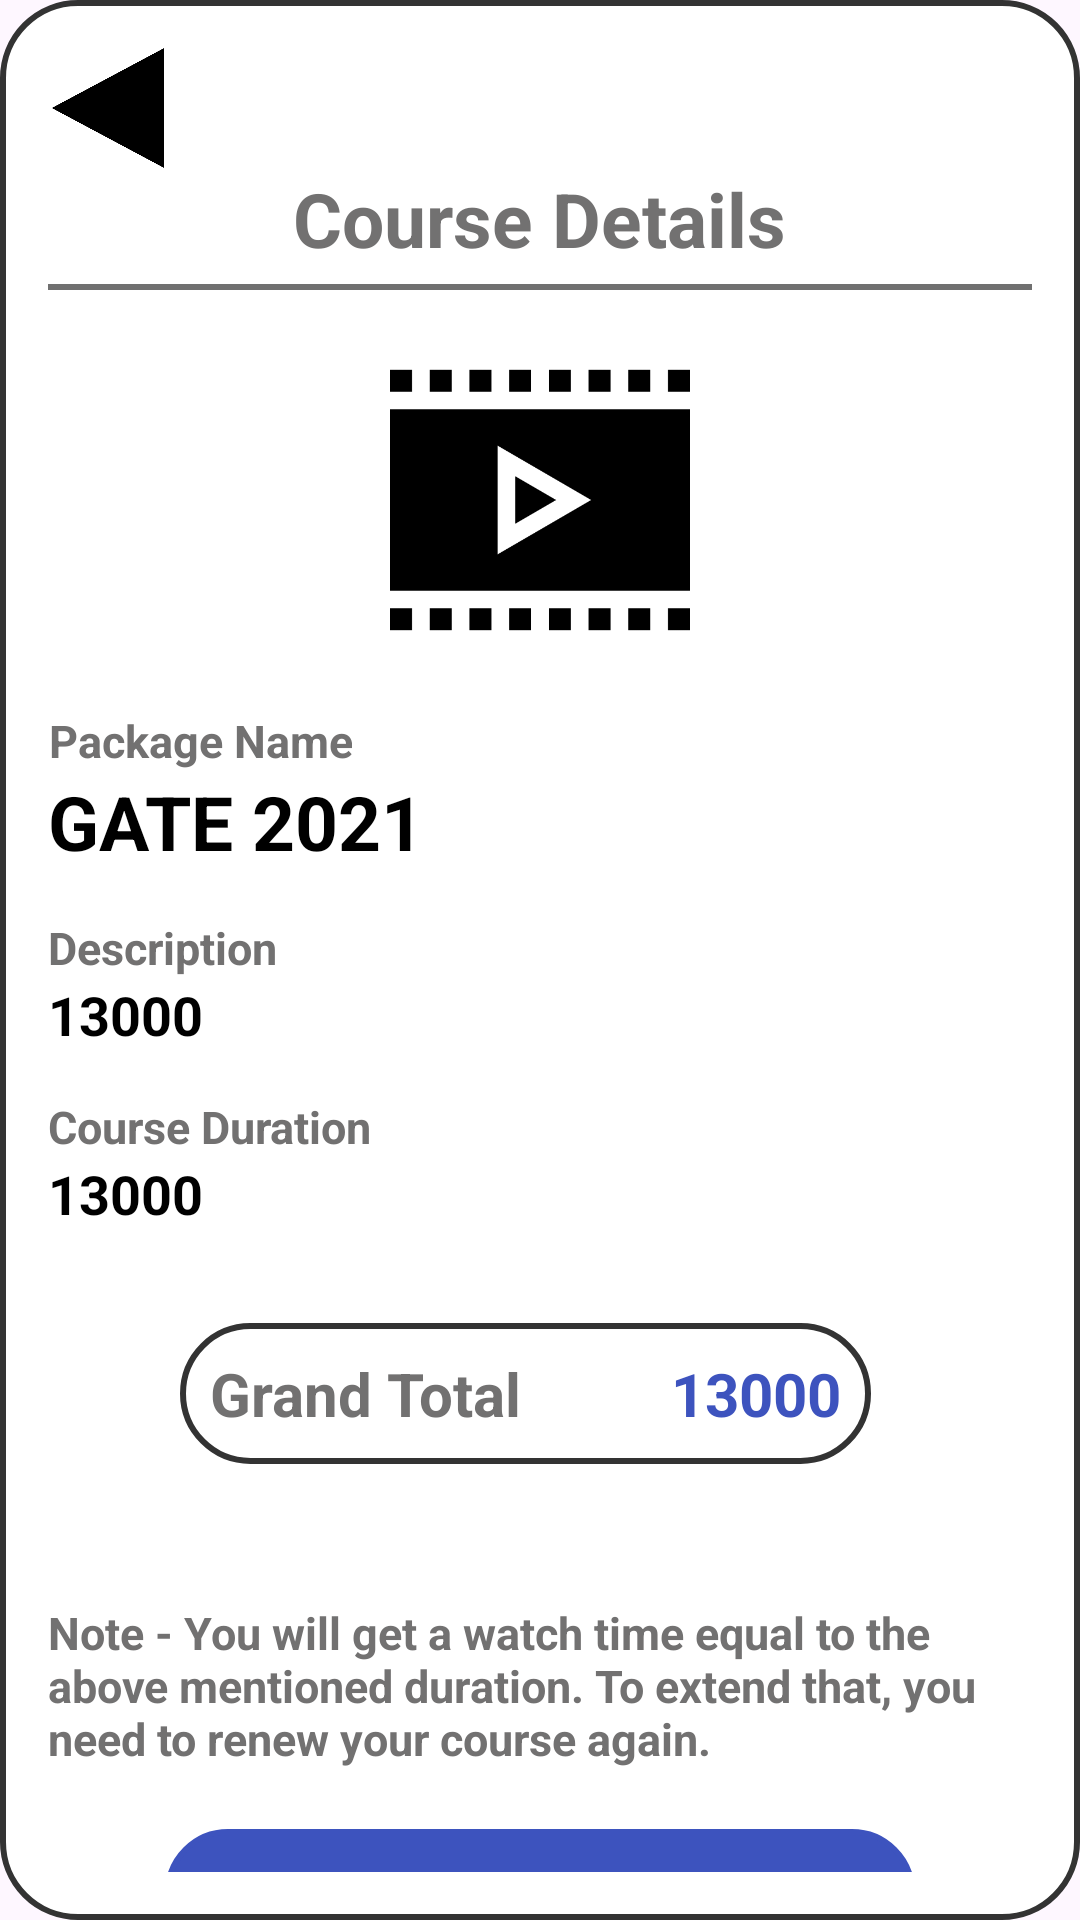

Locate icon controls on the screen. Image size 1080px x 1920px, boxes as [left=x1, top=y1, right=x2, bottom=y2].
arrow back: [left=52, top=48, right=164, bottom=168]
videooo: [left=390, top=369, right=690, bottom=631]
